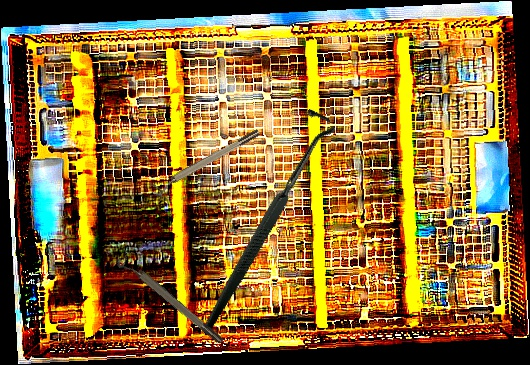Fixation Ring: (113, 249, 226, 351), (148, 127, 264, 199)
Hook Surgical: (133, 103, 392, 336)
